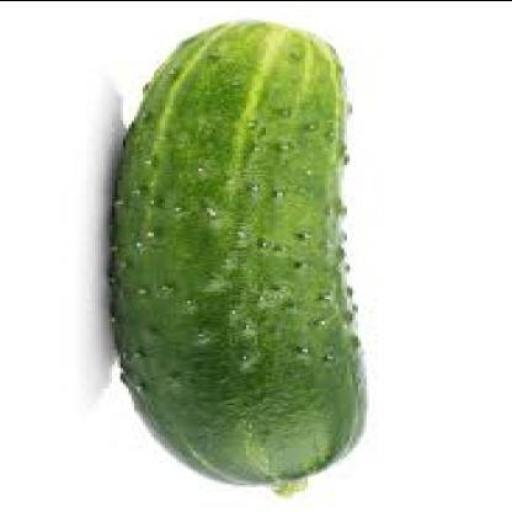biodegradable: (109, 14, 370, 494)
